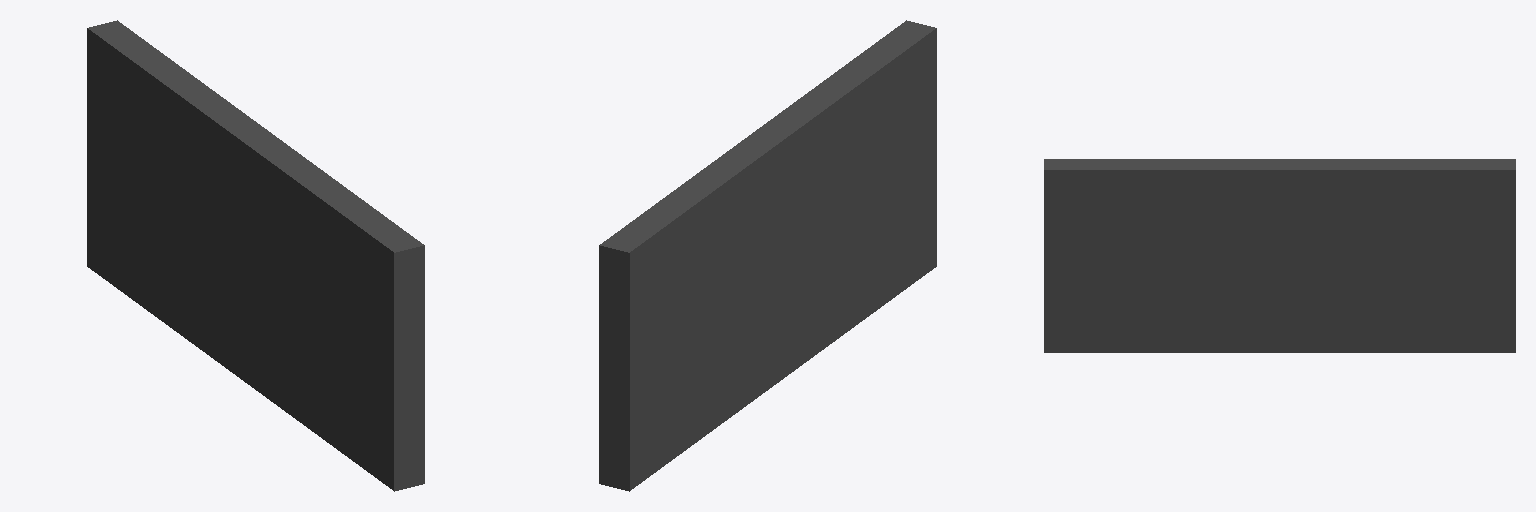
URDF robot description (slab):
<robot name="slab">
  <link name="slab">

    <inertial>
      <origin xyz="0 0 0" />
      <mass value="0.3" />
      <inertia  ixx="0.00003375" ixy="0.0"  ixz="0.0"  iyy="0.00003375"  iyz="0.0"  izz="0.00003375" />
    </inertial>

    <visual>
      <origin xyz="0 0 0"/>
      <geometry>
        <box size="0.02 0.35 0.15" />
      </geometry>
      <material name="white">
        <color rgba="0.36 0.36 0.36 1.0"/>
      </material>
    </visual>

    <collision>
      <origin xyz="0 0 0"/>
      <geometry>
        <box size="0.02 0.35 0.15" />
      </geometry>
    </collision>
  </link>
</robot>

--- Render facts (derived) ---
Views: 3 orthographic renders of the robot side by side, from view 1: azimuth 30°, elevation 25°; view 2: azimuth 150°, elevation 25°; view 3: azimuth 270°, elevation 25°.
Model slab with 1 links and 0 joints (none), rooted at slab, posed every joint at zero.
Visible links, largest first — view 1: slab; view 2: slab; view 3: slab.
Link boxes in pixels (<box>): slab: <box>87,20,424,491</box>; slab: <box>599,20,936,491</box>; slab: <box>1044,159,1515,352</box>.
Bounding box of the posed robot: 0.02 × 0.35 × 0.15 m (x, y, z).
Geometry: primitives only (box / cylinder / sphere), no mesh files.